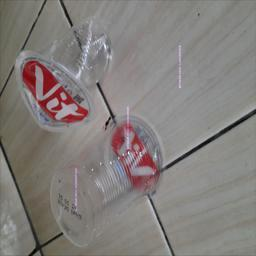plastic: (16, 20, 162, 246)
